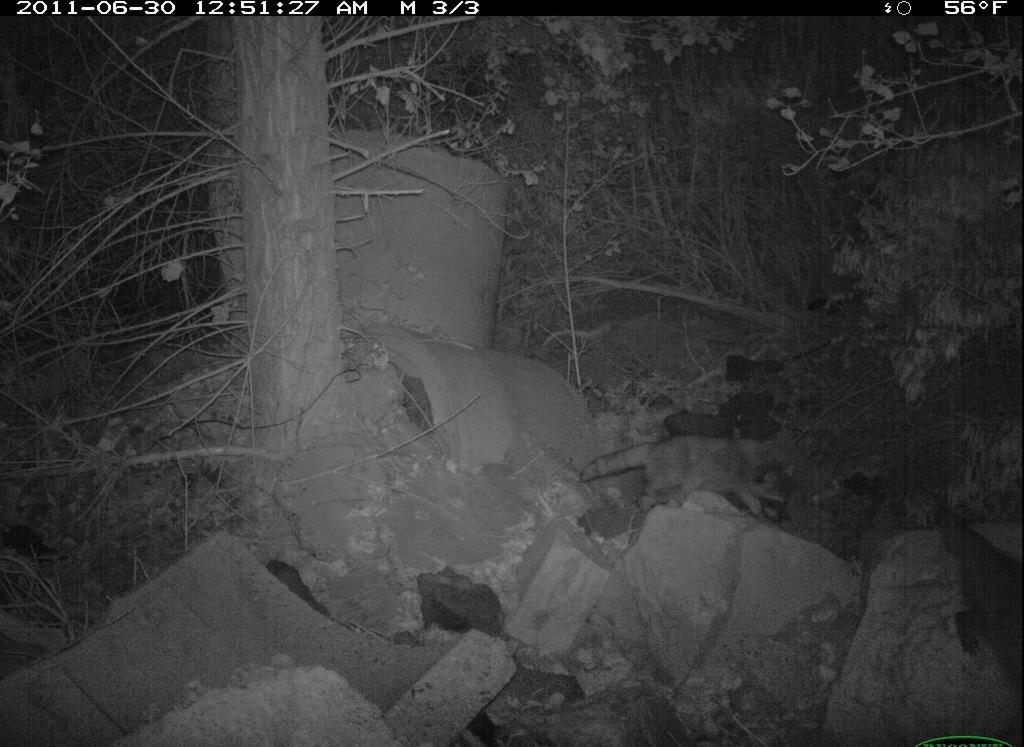raccoon: (571, 431, 802, 525)
